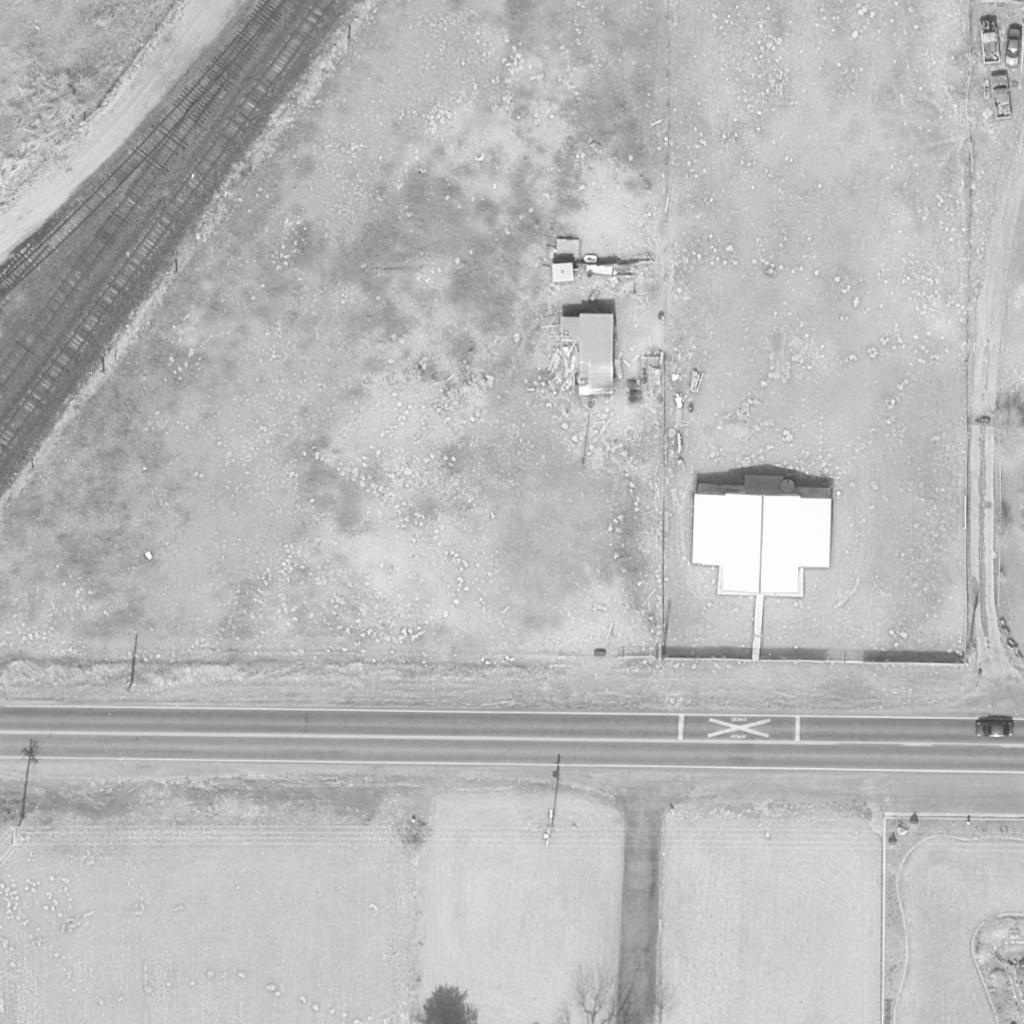vehicle: (989, 74, 1013, 120), (980, 20, 1002, 64), (974, 718, 1018, 738), (1005, 29, 1023, 67)
